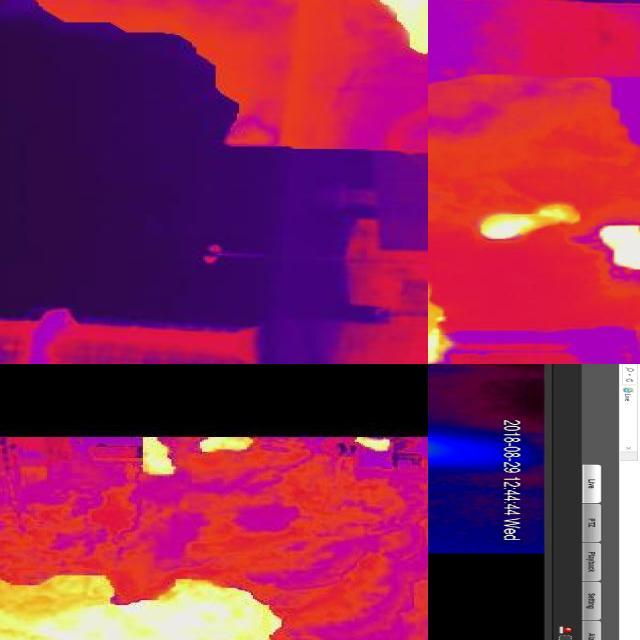fire: (1, 566, 288, 640), (479, 201, 640, 275), (379, 2, 427, 57), (429, 287, 456, 365), (198, 432, 255, 460), (142, 439, 179, 481), (359, 435, 392, 456)
